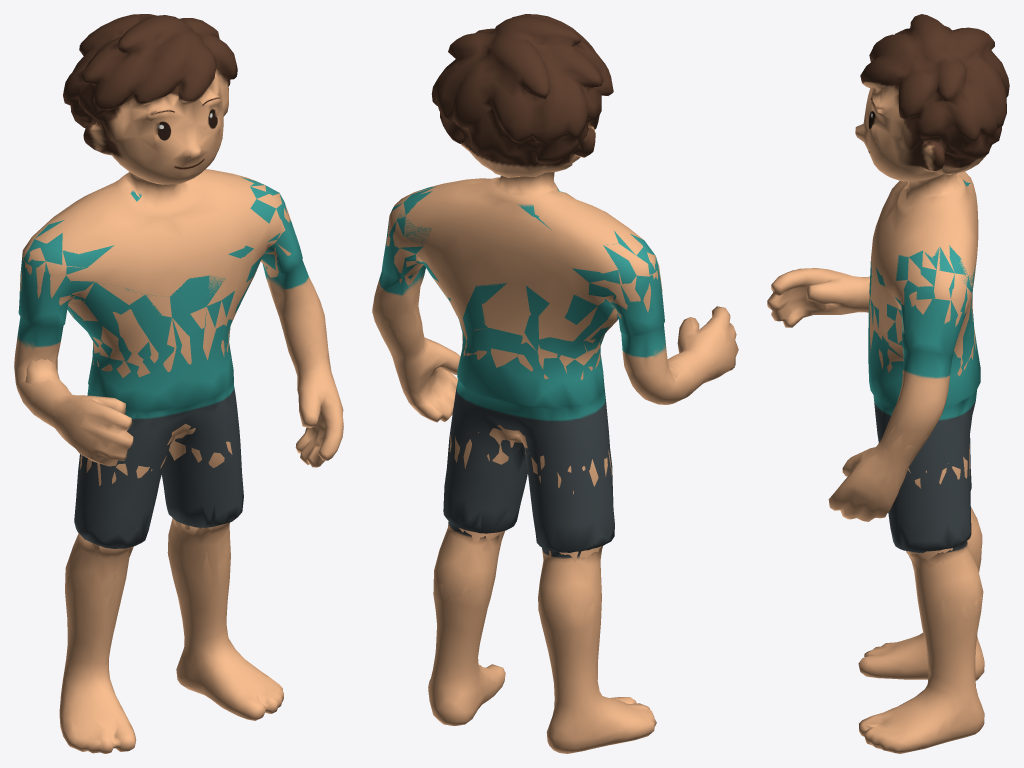
The model's file is adult__v02.glb.
The picture shows the model from 3 angles, left to right: view 1: azimuth 30°, elevation 25°; view 2: azimuth 150°, elevation 25°; view 3: azimuth 270°, elevation 25°; orthographic projection. The views are drawn at different scales.
Parts seen in each view (by area): view 1: outfit_bath, outfit_clothed; view 2: outfit_bath, outfit_clothed; view 3: outfit_bath, outfit_clothed.
Part boxes in pixels (x1=…): outfit_bath: x1=20, y1=14, x2=343, y2=753; outfit_clothed: x1=14, y1=15, x2=343, y2=753; outfit_bath: x1=380, y1=14, x2=738, y2=753; outfit_clothed: x1=372, y1=14, x2=738, y2=720; outfit_bath: x1=767, y1=14, x2=1009, y2=753; outfit_clothed: x1=789, y1=14, x2=999, y2=734.
Size of the model in its own units: 0.7722 by 1.7 by 0.5487.
Materials: 2 (2 with a texture image).
